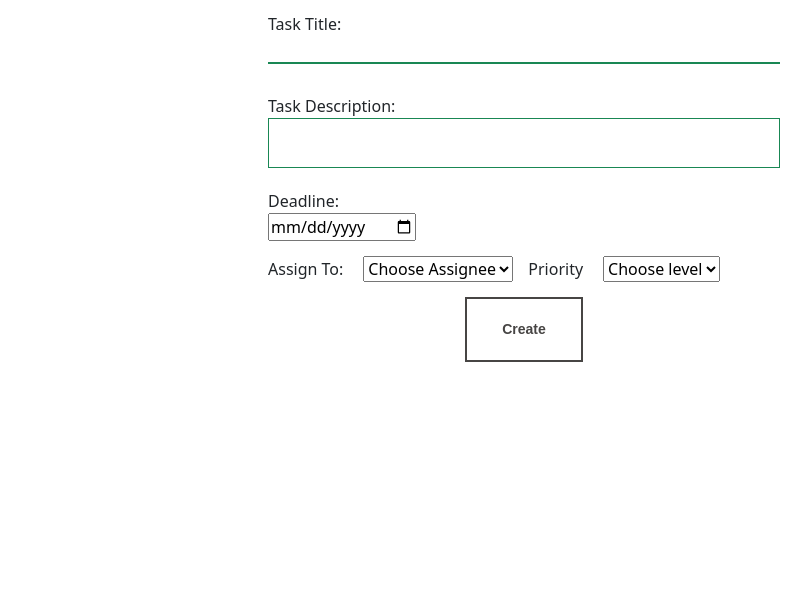
it: non-manager user cannot assign task
This screenshot has width=797, height=599.
Click the button with test id "task-submit-btn".
click(524, 330)  # box [465, 297, 583, 362]
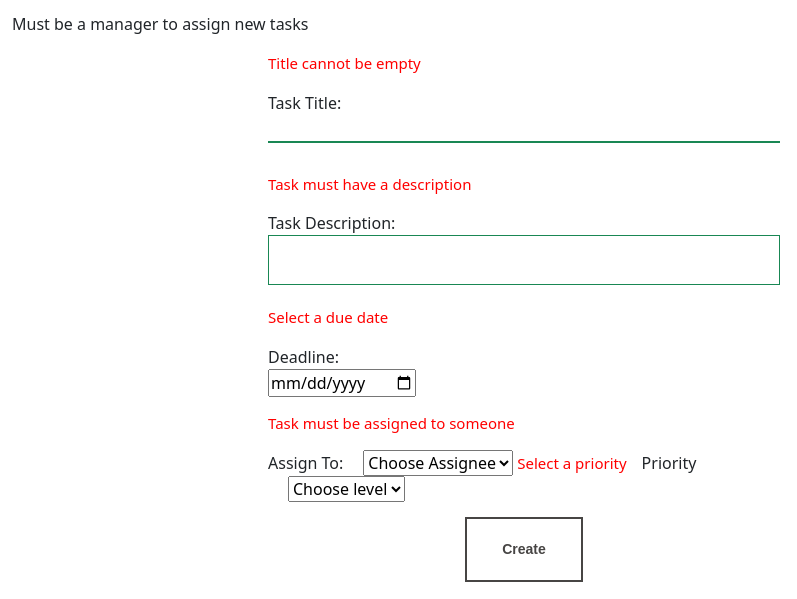
Check: the text "Must be a manager to assign new tasks" is shown, box [12, 13, 308, 35]
